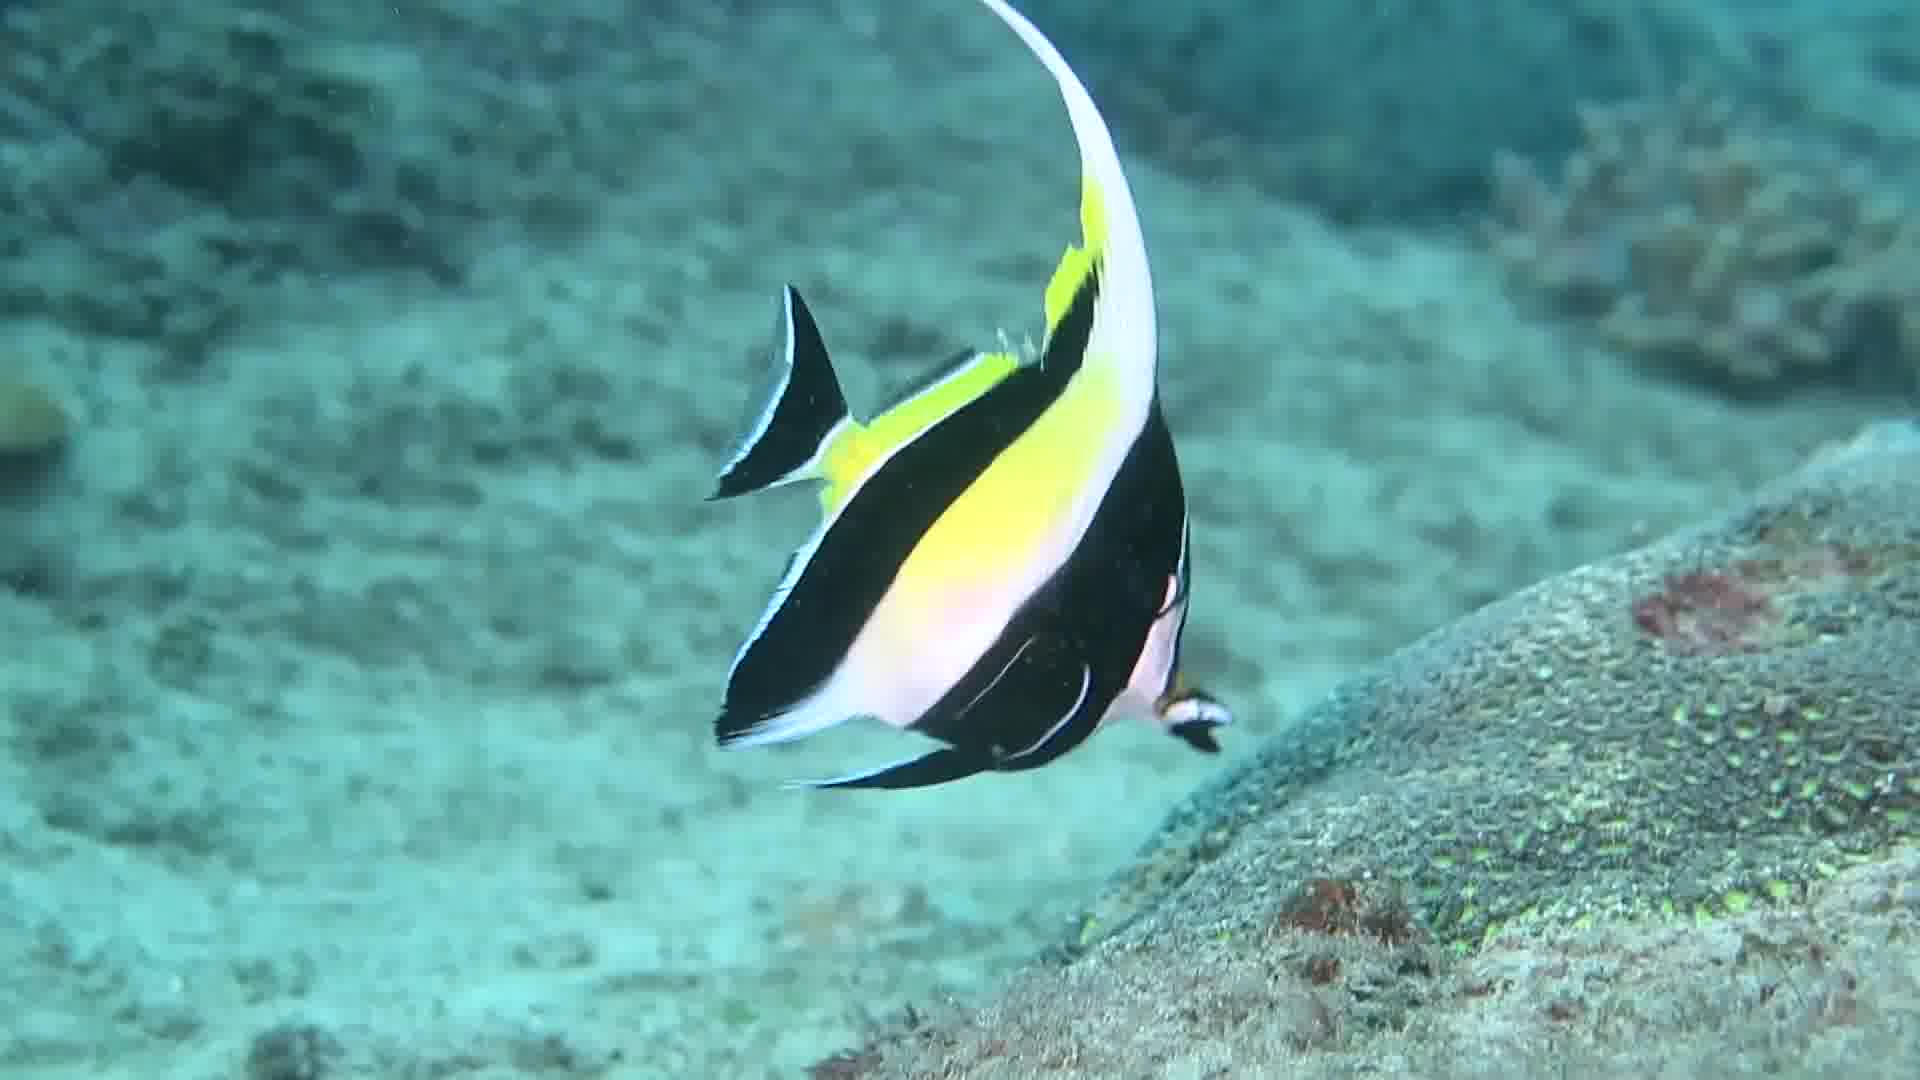Zanclus cornutus: (700, 32, 1236, 906)
